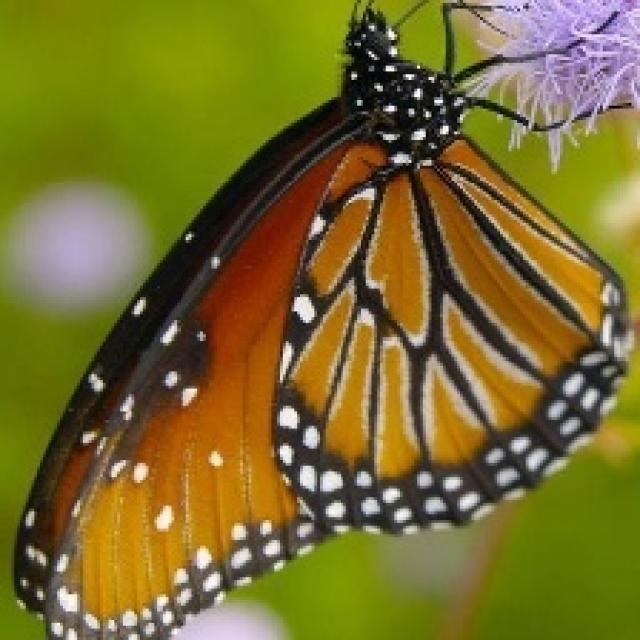butterfly: (9, 0, 634, 637)
